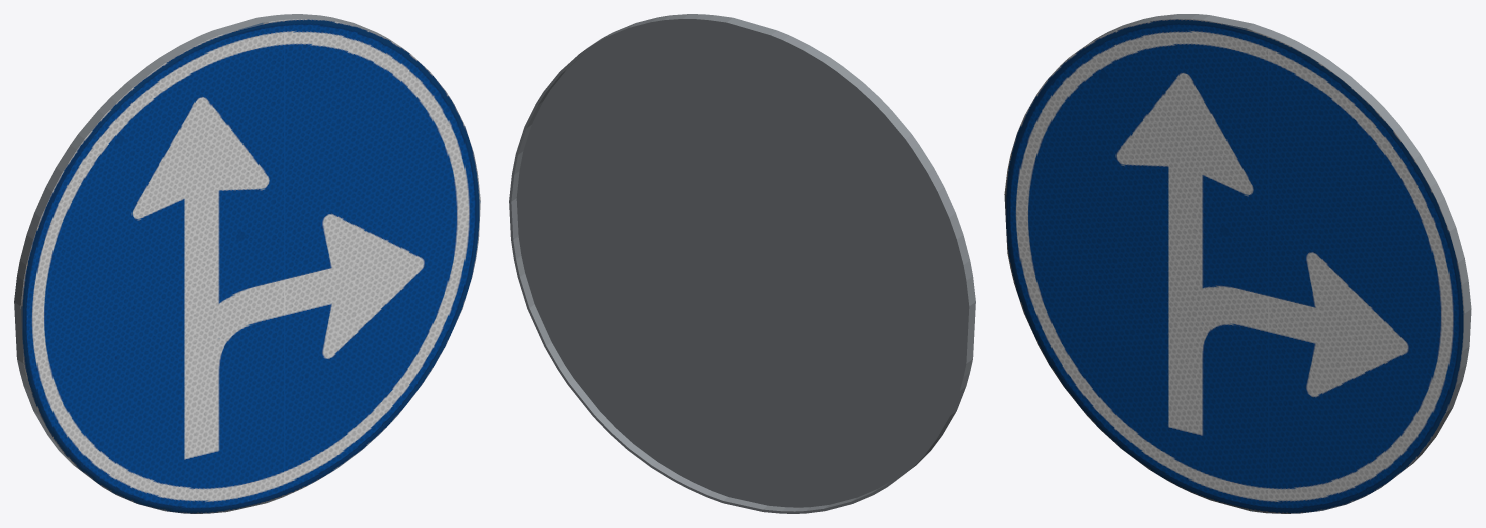
The picture shows the model from 3 angles, left to right: view 1: azimuth 30°, elevation 25°; view 2: azimuth 150°, elevation 25°; view 3: azimuth 330°, elevation 25°; orthographic projection.
Visible parts, largest first — view 1: cat_f0d9a24557097e5e; view 2: cat_f0d9a24557097e5e; view 3: cat_f0d9a24557097e5e.
Part boxes in pixels (bbox=[...]): cat_f0d9a24557097e5e: bbox=[14, 14, 480, 513]; cat_f0d9a24557097e5e: bbox=[509, 14, 975, 513]; cat_f0d9a24557097e5e: bbox=[1004, 14, 1471, 513].
Bounding box in the file's own units: 0.6 × 0.015 × 0.6.
Materials: 2 (1 with a texture image).
